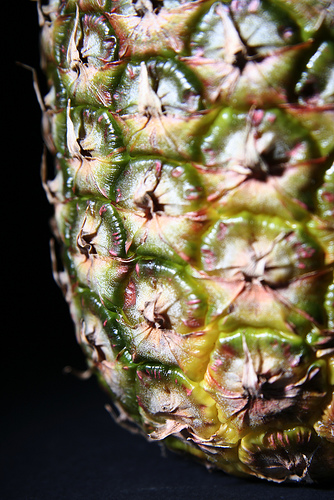pineapple: (28, 0, 332, 486)
